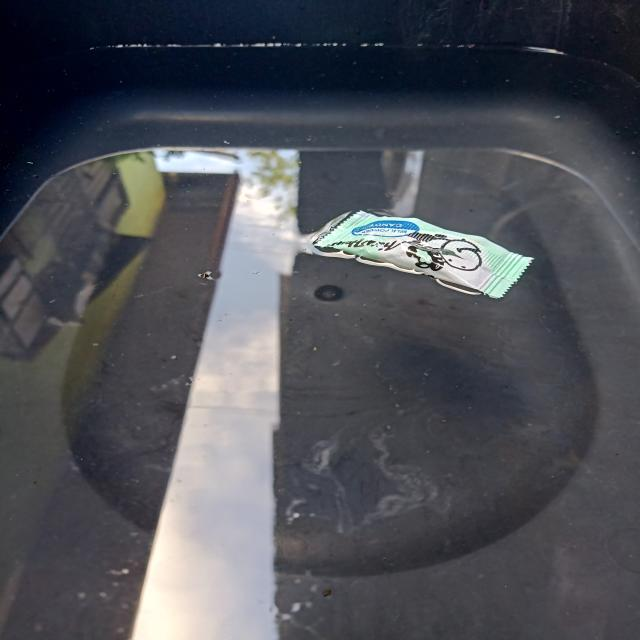Plastic Wrapper: (302, 203, 555, 316)
